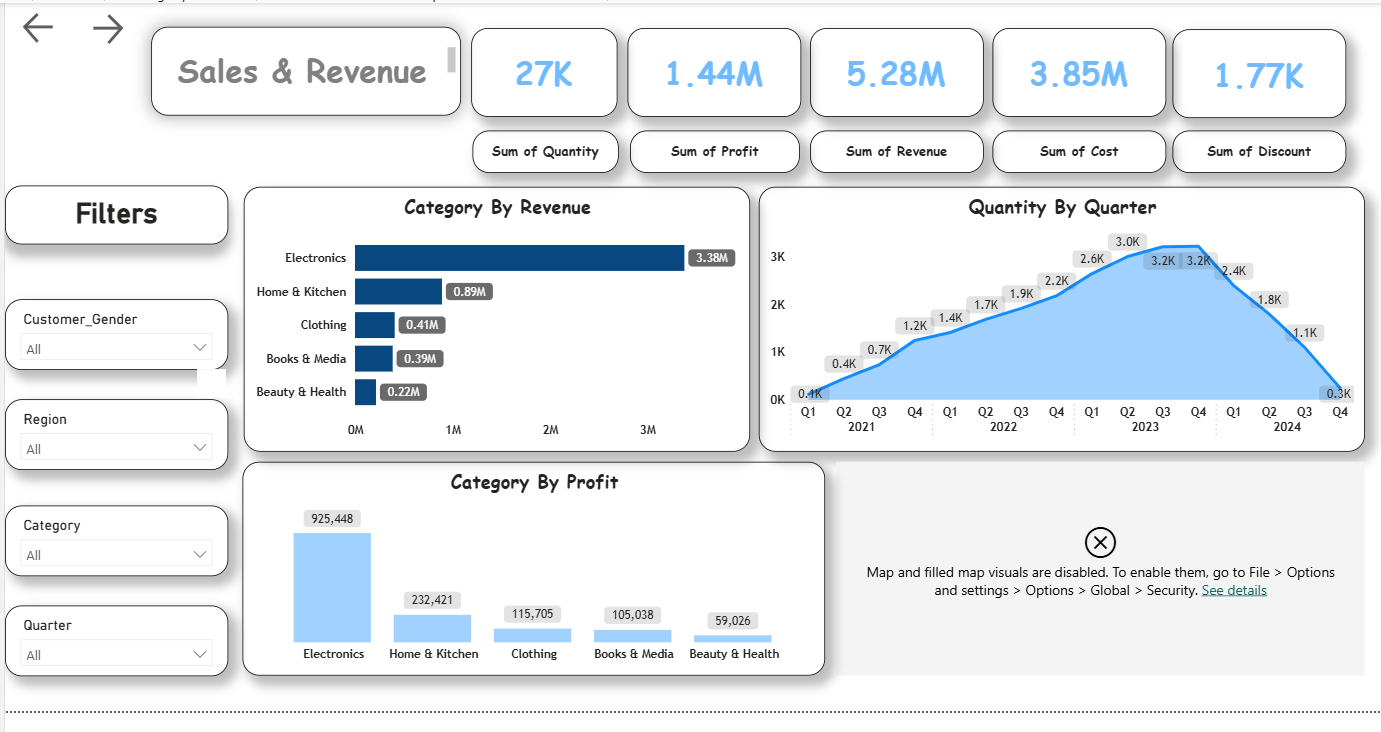

This screenshot's page, from the dashboard's own definition file:
{"tool":"powerbi","page":{"name":"Sales & Revenue Analytics","canvas":[1400,720],"ordinal":1},"visuals":[{"type":"textbox","box":[148.8,24.2,315.4,90.3],"z":0},{"type":"textbox","box":[475.7,129.7,148.8,43.2],"z":1000},{"type":"textbox","box":[635.9,129.7,173,43.2],"z":2000},{"type":"textbox","box":[819,129.7,176.8,43.2],"z":3000},{"type":"textbox","box":[1004.7,129.7,176.8,43.2],"z":4000},{"type":"textbox","box":[1187.9,129.7,176.8,43.2],"z":5000},{"type":"clusteredBarChart","title":" Category By Revenue","fields":{"Category":["dim_Product.Category"],"Y":["Sum(fact_Orders.Revenue)"]},"box":[242.9,187,515.1,269.6],"z":6000},{"type":"areaChart","title":" Quantity By Quarter","fields":{"Category":["dim_Date.Year","dim_Date.Quarter"],"Y":["Sum(fact_Orders.Quantity)"]},"box":[766.9,187,616.8,269.6],"z":7000},{"type":"map","fields":{"Category":["dim_Geography.Country"],"Size":["Sum(fact_Orders.Quantity)"]},"box":[845.8,466.8,538,217.5],"z":8000},{"type":"columnChart","title":" Category By Profit","fields":{"Category":["dim_Product.Category"],"Y":["Sum(fact_Orders.Profit)"]},"box":[241.6,466.8,592.7,217.5],"z":9000},{"type":"slicer","fields":{"Values":["dim_Customer.Customer_Gender"]},"box":[0,300.9,226.9,71.6],"z":10000},{"type":"slicer","fields":{"Values":["dim_Product.Category"]},"box":[0,510.7,226.9,71.6],"z":11000},{"type":"slicer","fields":{"Values":["dim_Date.Quarter"]},"box":[0,613,226.9,71.6],"z":12000},{"type":"slicer","fields":{"Values":["dim_Geography.Region"]},"box":[0,403.2,226.9,71.6],"z":13000},{"type":"textbox","box":[0,186.2,227.6,60.3],"z":14000},{"type":"actionButton","box":[13.5,4.5,100.6,40.5],"z":15000},{"type":"actionButton","box":[84,6,100.6,40.5],"z":16000},{"type":"cardVisual","fields":{"Data":["Sum(fact_Orders.Quantity)"]},"box":[474.4,25.7,148.8,90.3],"z":17000},{"type":"cardVisual","fields":{"Data":["fact_Orders.Total Profit"]},"box":[633.4,25.7,176.8,90.3],"z":18000},{"type":"cardVisual","fields":{"Data":["fact_Orders.Total Revenue"]},"box":[819,25.7,176.8,90.3],"z":19000},{"type":"cardVisual","fields":{"Data":["fact_Orders.Total Cost"]},"box":[1004.7,25.7,176.8,90.3],"z":20000},{"type":"cardVisual","fields":{"Data":["Sum(fact_Orders.Discount)"]},"box":[1187.9,27,176.8,90.3],"z":21000}]}

Visuals, with their boxes in screenshot pixels (x1, y1, x2, y2), scaled from the page's 1400x720 canvas onto the 1381x732 screenshot:
textbox: {"left": 147, "top": 25, "right": 458, "bottom": 116}
textbox: {"left": 469, "top": 132, "right": 616, "bottom": 176}
textbox: {"left": 627, "top": 132, "right": 798, "bottom": 176}
textbox: {"left": 808, "top": 132, "right": 982, "bottom": 176}
textbox: {"left": 991, "top": 132, "right": 1165, "bottom": 176}
textbox: {"left": 1172, "top": 132, "right": 1346, "bottom": 176}
" Category By Revenue" clusteredBarChart: {"left": 240, "top": 190, "right": 748, "bottom": 464}
" Quantity By Quarter" areaChart: {"left": 756, "top": 190, "right": 1365, "bottom": 464}
map - dim_Geography.Country x Sum(fact_Orders.Quantity): {"left": 834, "top": 475, "right": 1365, "bottom": 696}
" Category By Profit" columnChart: {"left": 238, "top": 475, "right": 823, "bottom": 696}
slicer - dim_Customer.Customer_Gender: {"left": 0, "top": 306, "right": 224, "bottom": 379}
slicer - dim_Product.Category: {"left": 0, "top": 519, "right": 224, "bottom": 592}
slicer - dim_Date.Quarter: {"left": 0, "top": 623, "right": 224, "bottom": 696}
slicer - dim_Geography.Region: {"left": 0, "top": 410, "right": 224, "bottom": 483}
textbox: {"left": 0, "top": 189, "right": 225, "bottom": 251}
actionButton: {"left": 13, "top": 5, "right": 113, "bottom": 46}
actionButton: {"left": 83, "top": 6, "right": 182, "bottom": 47}
cardVisual - Sum(fact_Orders.Quantity): {"left": 468, "top": 26, "right": 615, "bottom": 118}
cardVisual - fact_Orders.Total Profit: {"left": 625, "top": 26, "right": 799, "bottom": 118}
cardVisual - fact_Orders.Total Revenue: {"left": 808, "top": 26, "right": 982, "bottom": 118}
cardVisual - fact_Orders.Total Cost: {"left": 991, "top": 26, "right": 1165, "bottom": 118}
cardVisual - Sum(fact_Orders.Discount): {"left": 1172, "top": 27, "right": 1346, "bottom": 119}
